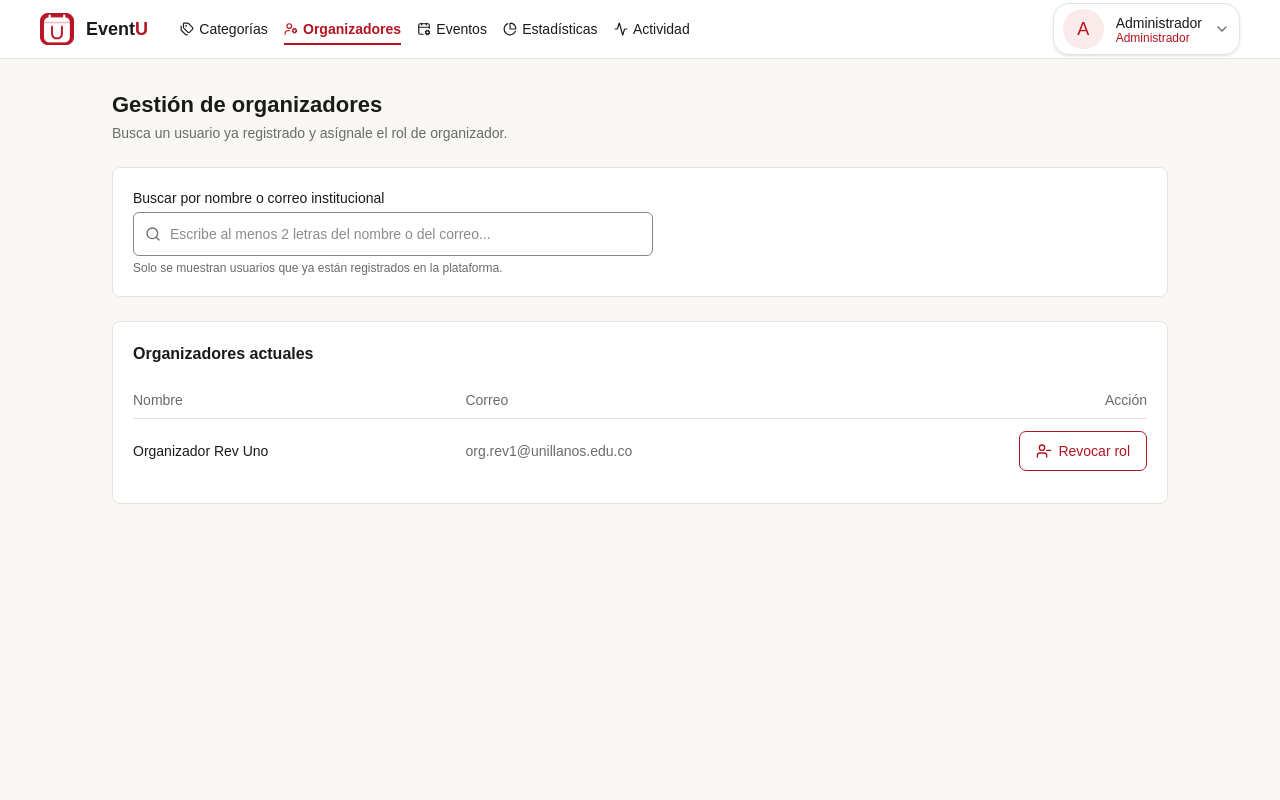
Test case: Asignación de organizadores (HU-03) › revoca el rol de organizador después de confirmar
Click the button with aria-label "Revocar rol de Organizador Rev Uno": (1083, 451) [1019,431,1147,471]
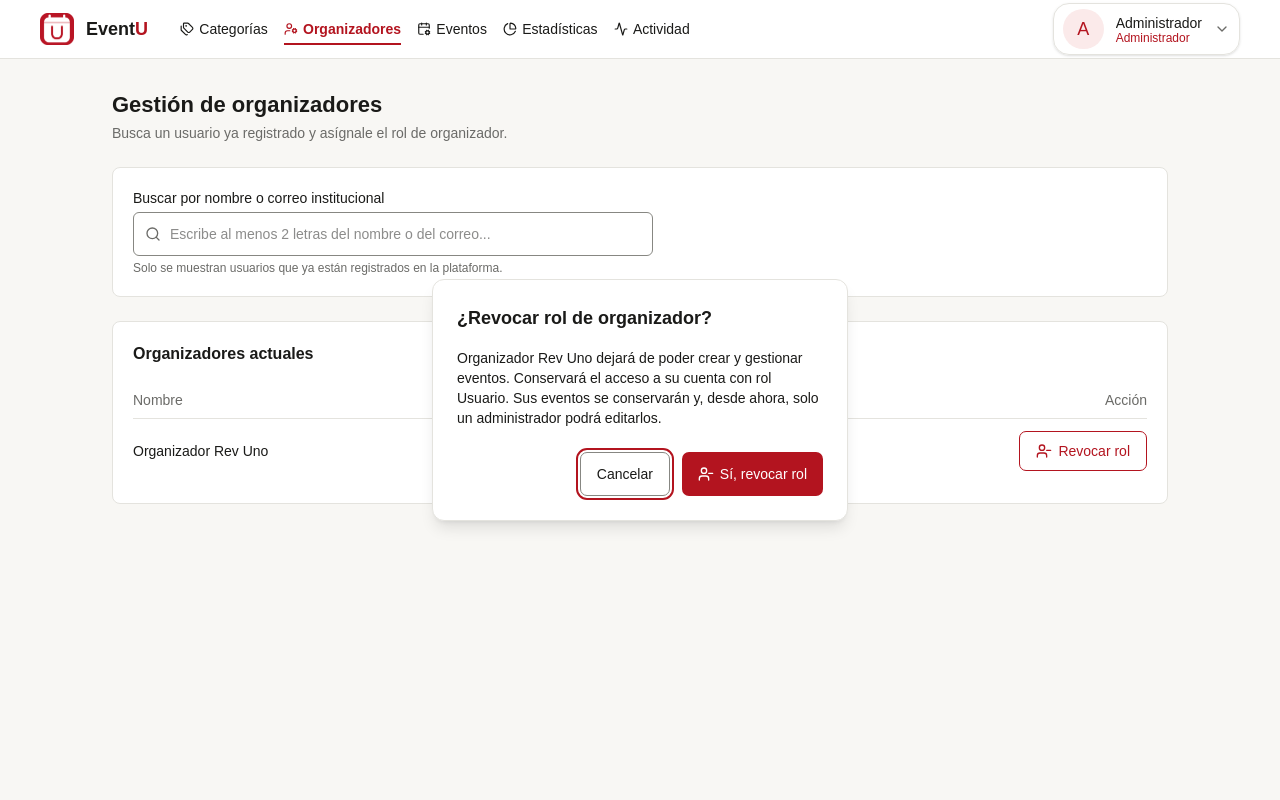
Click the button "Sí, revocar rol": (752, 474) [682,452,823,496]
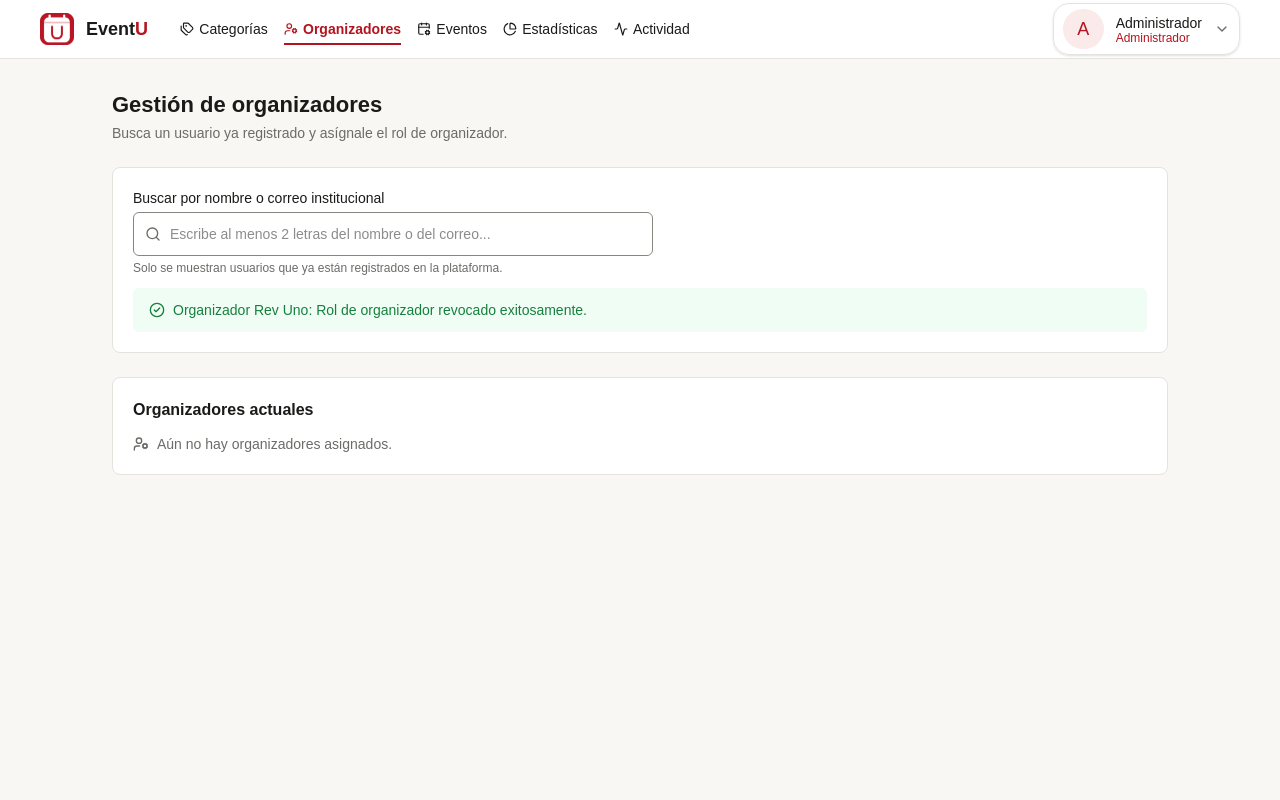
Now the message shows "Rol de organizador revocado exitosamente.", box [173,302,587,318]
